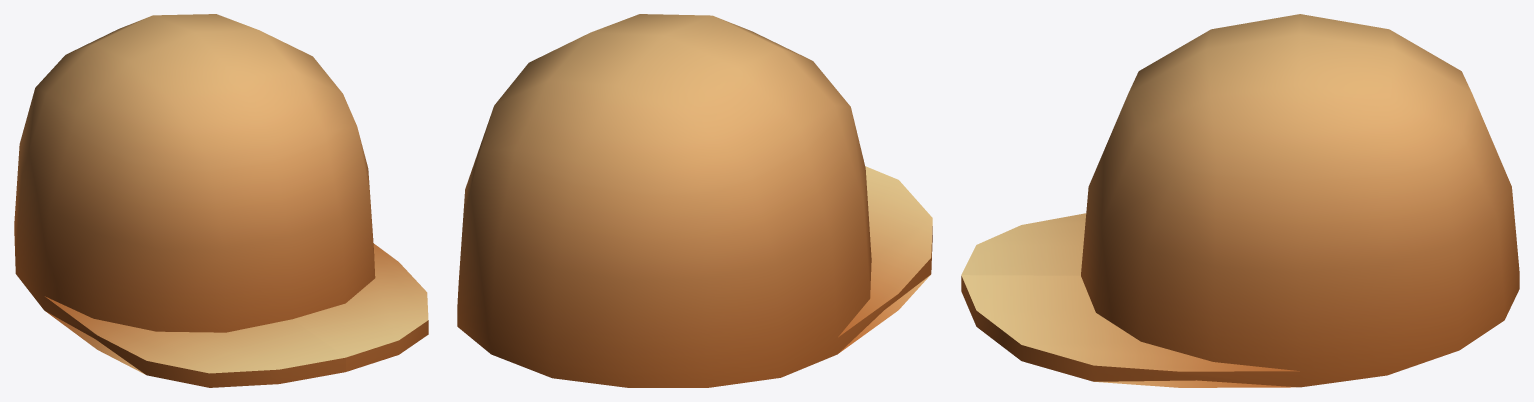
The model's file is SM_Cap.fbx.
The picture shows the model from 3 angles, left to right: view 1: azimuth 30°, elevation 25°; view 2: azimuth 150°, elevation 25°; view 3: azimuth 270°, elevation 25°; orthographic projection. The views are drawn at different scales.
Parts seen in each view (by area): view 1: SM_Cap; view 2: SM_Cap; view 3: SM_Cap.
Boxes of the visible parts, x1,y1,x2,y2 form: SM_Cap: [14, 14, 428, 387]; SM_Cap: [457, 14, 932, 387]; SM_Cap: [961, 14, 1519, 387].
Size of the model in its own units: 33.3 by 25.48 by 47.6.
